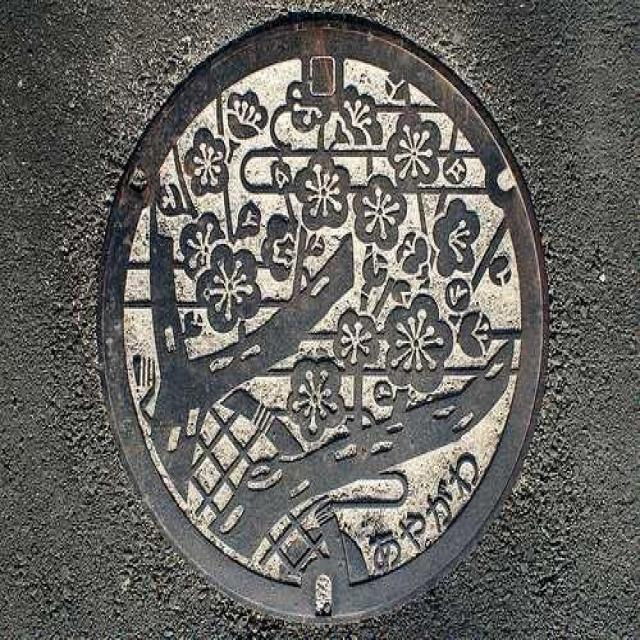manhole: (104, 17, 545, 621)
